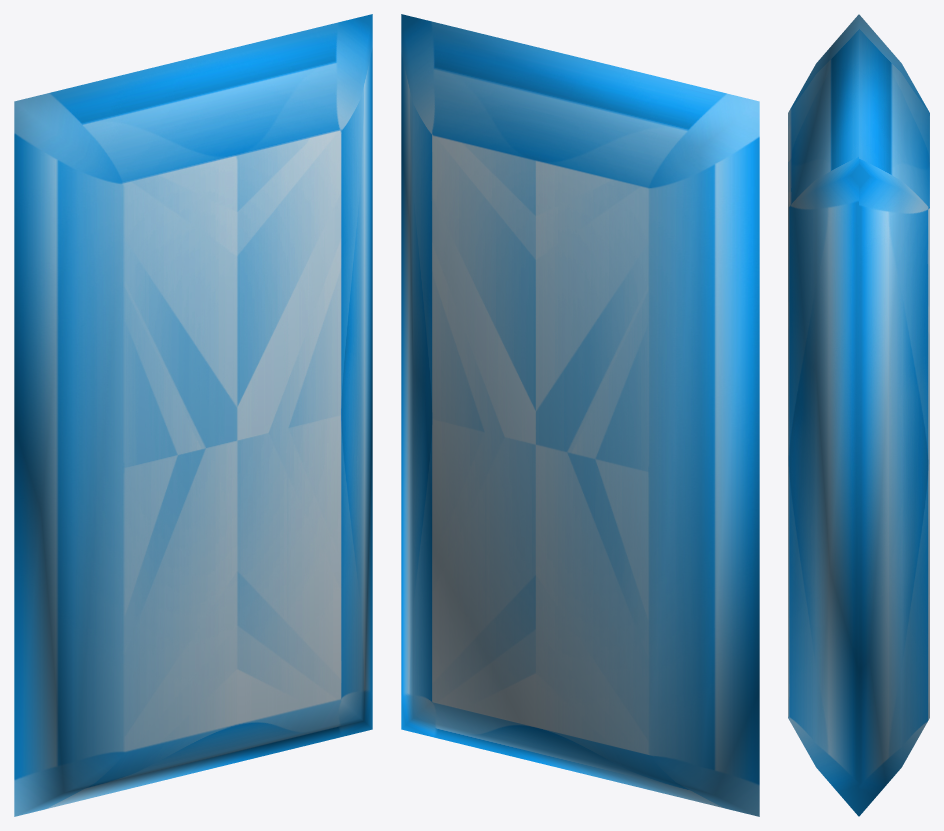
Rendered from Gem-Baguette.fbx.
3 views of the same model, side by side, from view 1: azimuth 30°, elevation 25°; view 2: azimuth 150°, elevation 25°; view 3: azimuth 270°, elevation 25° (orthographic). The views are drawn at different scales.
Visible parts, largest first — view 1: Gem-Baguette; view 2: Gem-Baguette; view 3: Gem-Baguette.
Boxes of the visible parts, <box> form: Gem-Baguette: <box>14,14,372,816</box>; Gem-Baguette: <box>401,14,759,816</box>; Gem-Baguette: <box>788,14,929,816</box>.
Bounding box in the file's own units: 1.15 × 2.19 × 0.4361.
